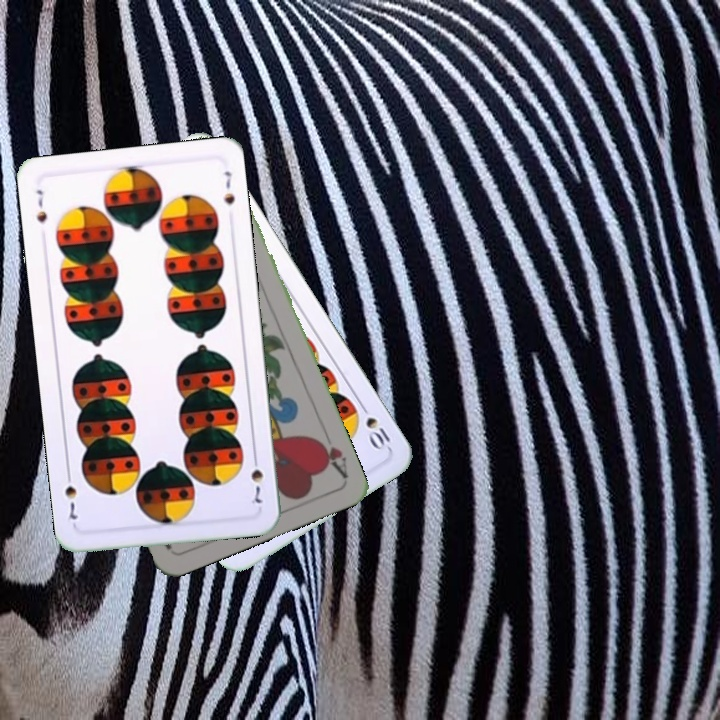HA: (311, 432, 351, 481)
S10: (355, 398, 393, 454)
S7: (247, 450, 266, 509), (32, 185, 50, 226)
